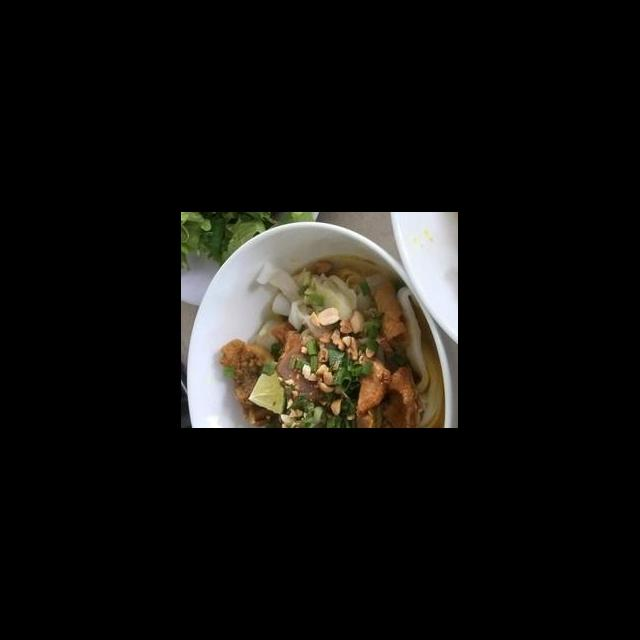mi: (248, 260, 386, 358), (392, 284, 448, 428)
thit heo: (218, 336, 282, 426), (378, 364, 426, 428), (354, 352, 394, 421)
